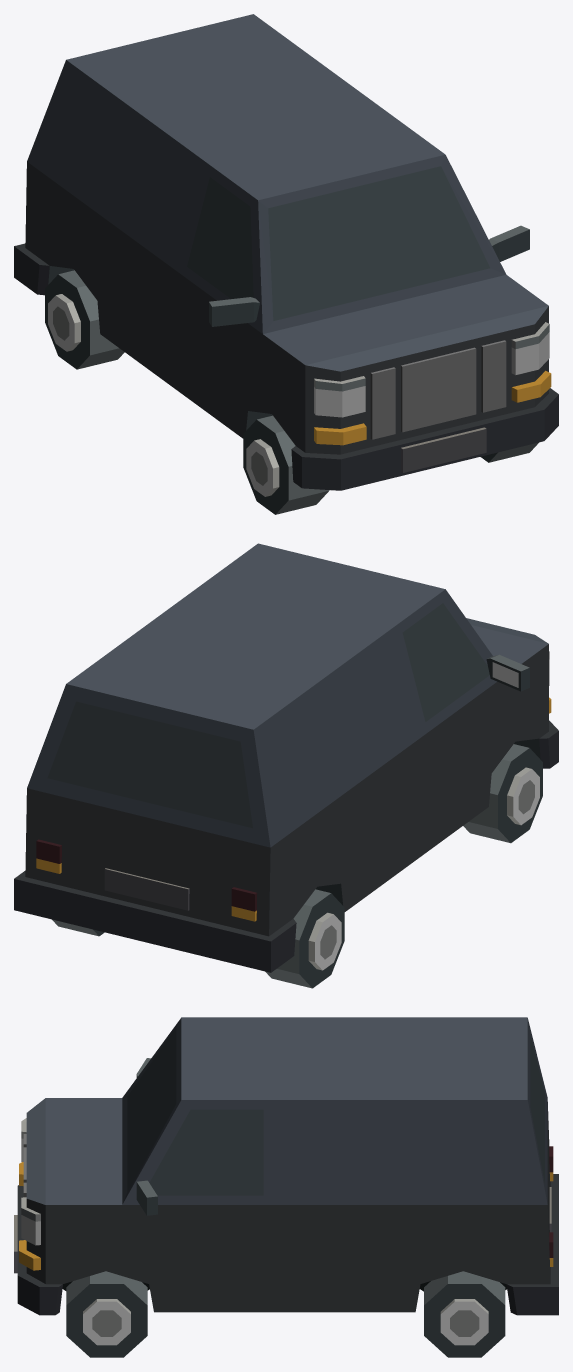
The model's file is TB_CITY_Car_Van_B.FBX.
The picture shows the model from 3 angles, top to bottom: view 1: azimuth 30°, elevation 25°; view 2: azimuth 150°, elevation 25°; view 3: azimuth 270°, elevation 25°; orthographic projection. The views are drawn at different scales.
Parts seen in each view (by area): view 1: TB_CITY_Car_Van_B, TB_Car_Van_Wheel008, TB_Car_Van_Wheel005; view 2: TB_CITY_Car_Van_B, TB_Car_Van_Wheel005, TB_Car_Van_Wheel008; view 3: TB_CITY_Car_Van_B, TB_Car_Van_Wheel006, TB_Car_Van_Wheel007.
Boxes of the visible parts, left/top/right/bottom form: TB_CITY_Car_Van_B: left=14, top=14, right=558, bottom=490; TB_Car_Van_Wheel008: left=45, top=270, right=124, bottom=369; TB_Car_Van_Wheel005: left=243, top=415, right=329, bottom=514; TB_CITY_Car_Van_B: left=14, top=543, right=558, bottom=972; TB_Car_Van_Wheel005: left=463, top=744, right=542, bottom=843; TB_Car_Van_Wheel008: left=265, top=889, right=344, bottom=988; TB_CITY_Car_Van_B: left=14, top=1017, right=558, bottom=1315; TB_Car_Van_Wheel006: left=66, top=1271, right=147, bottom=1357; TB_Car_Van_Wheel007: left=424, top=1271, right=505, bottom=1357.
Size of the model in its own units: 4.12 by 3.34 by 6.8.
